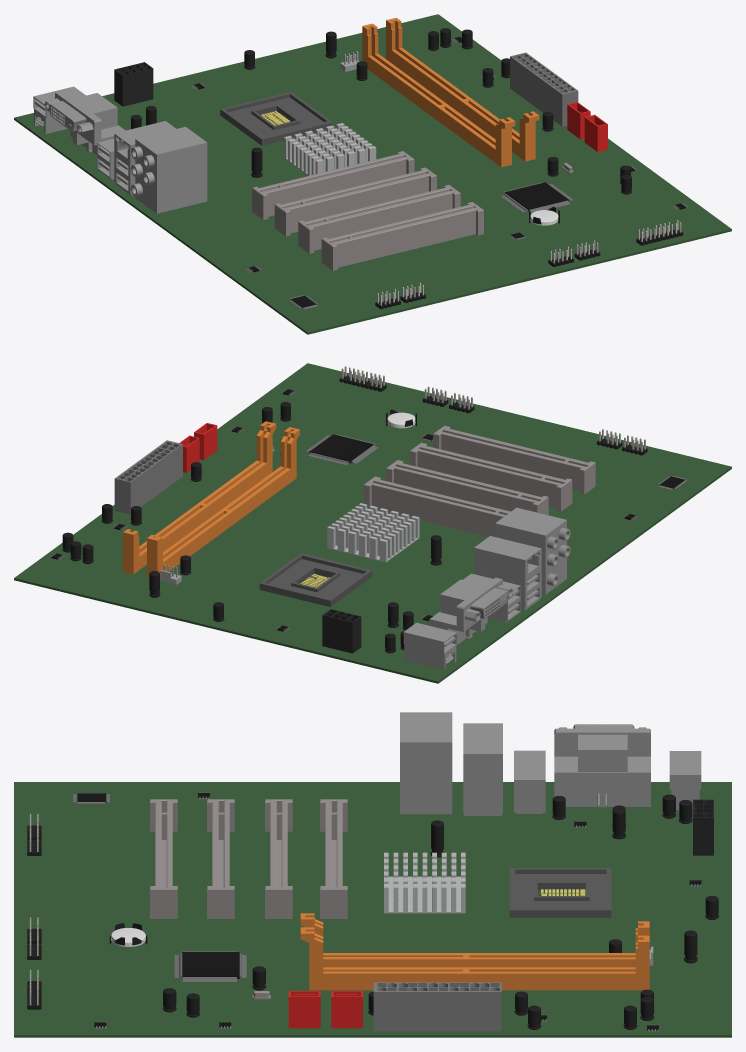
Rendered from MotherboardLGA1200B.fbx.
3 views of the same model, one above another, from view 1: azimuth 30°, elevation 25°; view 2: azimuth 150°, elevation 25°; view 3: azimuth 270°, elevation 25° (orthographic). The views are drawn at different scales.
Visible parts, largest first — view 1: Plane, PCI.003, SOUND, RAM, RAM.001, PCI.001, PCI.002, PCI.004, CPU.002, HeatSink.001, POWER, DISPLAY (+7 smaller); view 2: Plane, RAM, PCI.004, RAM.001, PCI.002, PCI.003, HeatSink.001, CPU.002, PCI.001, USB30, POWER, DISPLAY (+7 smaller); view 3: Plane, RAM.001, DISPLAY, POWER, SOUND, RAM, CPU.002, HeatSink.001, USB30, PCI.004, PCI.001, PCI.002 (+7 smaller).
Part boxes in pixels (bbox=[...]): Plane: bbox=[14, 14, 731, 334]; PCI.003: bbox=[321, 202, 483, 270]; SOUND: bbox=[135, 126, 207, 213]; RAM: bbox=[362, 23, 515, 167]; RAM.001: bbox=[386, 17, 539, 161]; PCI.001: bbox=[274, 167, 436, 236]; PCI.002: bbox=[298, 185, 460, 253]; PCI.004: bbox=[252, 151, 414, 219]; CPU.002: bbox=[220, 92, 332, 145]; HeatSink.001: bbox=[284, 123, 376, 175]; POWER: bbox=[510, 52, 578, 126]; DISPLAY: bbox=[44, 91, 125, 155]; Plane: bbox=[14, 363, 731, 683]; RAM: bbox=[147, 427, 299, 577]; PCI.004: bbox=[363, 476, 510, 536]; RAM.001: bbox=[123, 421, 276, 574]; PCI.002: bbox=[409, 442, 572, 511]; PCI.003: bbox=[433, 425, 595, 494]; HeatSink.001: bbox=[327, 503, 419, 562]; CPU.002: bbox=[259, 553, 372, 606]; PCI.001: bbox=[386, 460, 548, 515]; USB30: bbox=[474, 536, 541, 610]; POWER: bbox=[114, 440, 182, 514]; DISPLAY: bbox=[429, 577, 513, 645]; Plane: bbox=[14, 782, 731, 1037]; RAM.001: bbox=[300, 927, 649, 990]; DISPLAY: bbox=[554, 724, 650, 807]; POWER: bbox=[373, 982, 501, 1031]; SOUND: bbox=[400, 712, 452, 814]; RAM: bbox=[300, 913, 649, 967]; CPU.002: bbox=[509, 868, 611, 917]; HeatSink.001: bbox=[384, 852, 465, 913]; USB30: bbox=[463, 723, 502, 815]; PCI.004: bbox=[320, 799, 347, 918]; PCI.001: bbox=[265, 799, 292, 918]; PCI.002: bbox=[207, 799, 234, 918].
Size of the model in its own units: 760 by 107 by 901.
